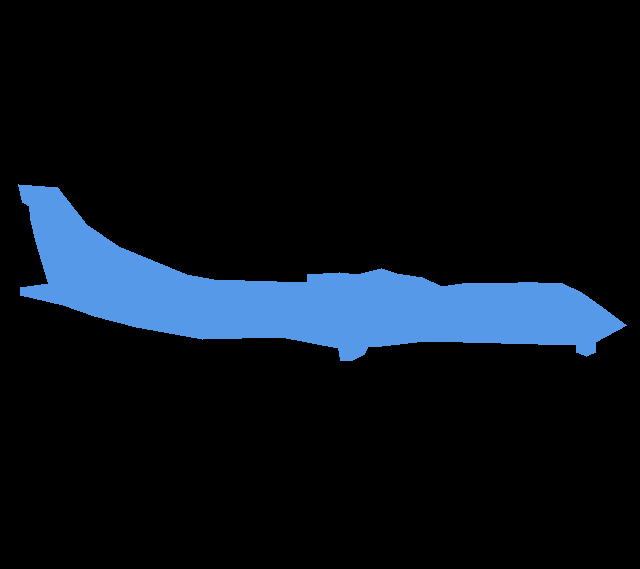Airplane: (18, 184, 626, 360)
